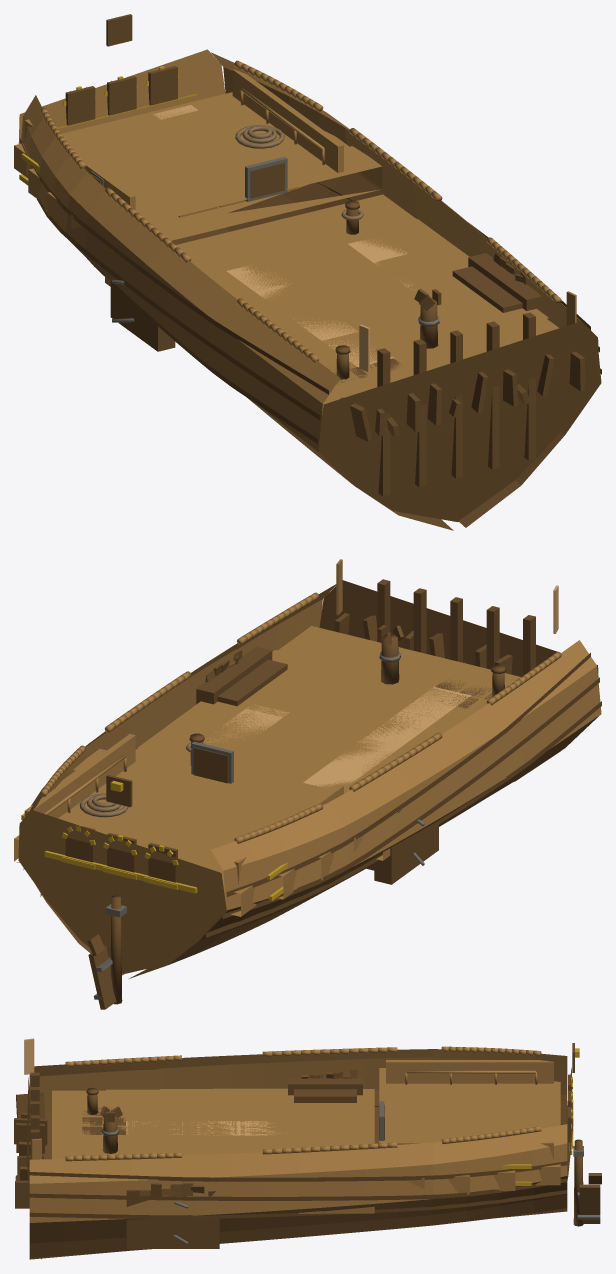
Rendered from WreckSternHalf.fbx.
The picture shows the model from 3 angles, top to bottom: view 1: azimuth 30°, elevation 25°; view 2: azimuth 150°, elevation 25°; view 3: azimuth 270°, elevation 25°; orthographic projection. The views are drawn at different scales.
Visible parts, largest first — view 1: WreckSternHalf; view 2: WreckSternHalf; view 3: WreckSternHalf.
Part boxes in pixels (bbox=[...]): WreckSternHalf: bbox=[14, 14, 601, 530]; WreckSternHalf: bbox=[14, 559, 601, 1009]; WreckSternHalf: bbox=[14, 1038, 601, 1259].
Size of the model in its own units: 653 by 516 by 1312.
